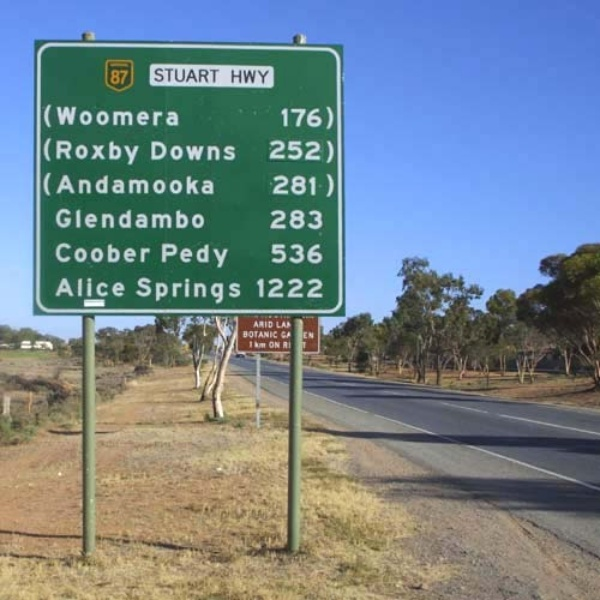text: (49, 135, 64, 166), (65, 135, 80, 166), (81, 135, 96, 166), (97, 135, 112, 166), (113, 135, 128, 166), (145, 277, 160, 304), (161, 277, 176, 304), (177, 277, 192, 304), (193, 277, 208, 304), (209, 277, 224, 304), (225, 277, 240, 304), (129, 135, 142, 166), (49, 103, 64, 128), (65, 103, 80, 128), (81, 103, 96, 128), (97, 103, 112, 128), (113, 103, 128, 128), (129, 103, 144, 128), (145, 103, 160, 128), (161, 103, 176, 128), (161, 243, 176, 268), (177, 243, 192, 268), (193, 243, 208, 268), (209, 243, 224, 268), (49, 172, 64, 196), (65, 172, 80, 196), (81, 172, 96, 196), (97, 172, 112, 196), (113, 172, 128, 196), (129, 172, 144, 196), (145, 172, 160, 196), (161, 172, 176, 196), (177, 172, 192, 196), (193, 172, 208, 196), (289, 106, 304, 130), (305, 106, 320, 130), (273, 140, 288, 164), (289, 140, 304, 164), (305, 140, 320, 164), (65, 207, 80, 230), (81, 207, 96, 230), (97, 207, 112, 230), (113, 207, 128, 230), (129, 207, 144, 230), (145, 207, 160, 230), (161, 207, 176, 230), (177, 207, 192, 230), (321, 106, 335, 130), (321, 140, 335, 164), (65, 241, 80, 263), (81, 241, 96, 263), (97, 241, 112, 263), (113, 241, 128, 263), (129, 241, 144, 263), (273, 243, 288, 265), (289, 243, 304, 265), (305, 243, 320, 265), (323, 172, 336, 197), (113, 278, 129, 298), (273, 175, 288, 196), (289, 175, 304, 196), (273, 209, 288, 230), (289, 209, 304, 230), (305, 209, 320, 230), (257, 278, 272, 299), (273, 278, 288, 299), (289, 278, 304, 299), (305, 278, 320, 299), (161, 141, 176, 161), (177, 141, 192, 161), (193, 141, 208, 161), (209, 141, 224, 161), (65, 278, 80, 298), (81, 278, 96, 298), (97, 278, 112, 298), (193, 207, 206, 230), (113, 68, 128, 85), (135, 277, 144, 304), (241, 69, 256, 85), (225, 141, 237, 161), (305, 175, 316, 196), (161, 68, 176, 83), (177, 68, 192, 83), (193, 68, 208, 83), (257, 69, 271, 85), (55, 241, 64, 263), (280, 106, 288, 130), (56, 207, 64, 230), (209, 68, 221, 83), (151, 141, 160, 161), (289, 329, 304, 341), (225, 243, 232, 268), (43, 135, 48, 166), (145, 241, 152, 263), (231, 69, 240, 85), (209, 172, 215, 196), (305, 329, 317, 341), (241, 331, 256, 340), (257, 331, 272, 340), (43, 103, 48, 128), (43, 172, 48, 196), (257, 321, 272, 329), (257, 340, 268, 350), (153, 68, 160, 83), (275, 321, 288, 329), (246, 340, 256, 350), (273, 341, 284, 350), (281, 329, 288, 341), (269, 140, 272, 164), (273, 331, 281, 340), (269, 209, 272, 230), (61, 278, 64, 298), (289, 321, 296, 329), (109, 68, 112, 85), (177, 103, 179, 128), (321, 243, 323, 265), (321, 209, 323, 230), (321, 278, 323, 299), (251, 321, 256, 329), (268, 341, 272, 350), (273, 321, 277, 329), (241, 277, 242, 304), (271, 243, 272, 265), (271, 175, 272, 196), (129, 68, 130, 85)
